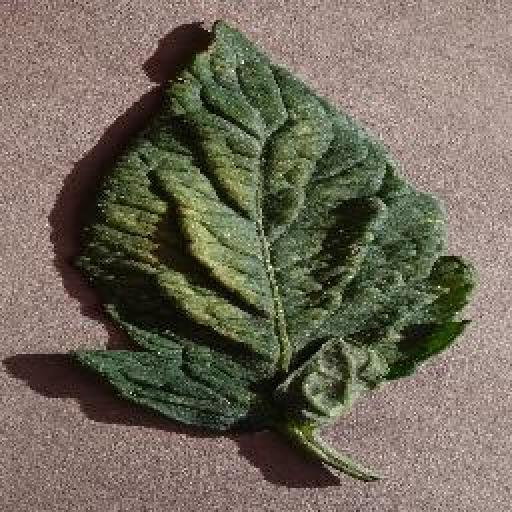Spider Mites: (71, 17, 474, 435)
